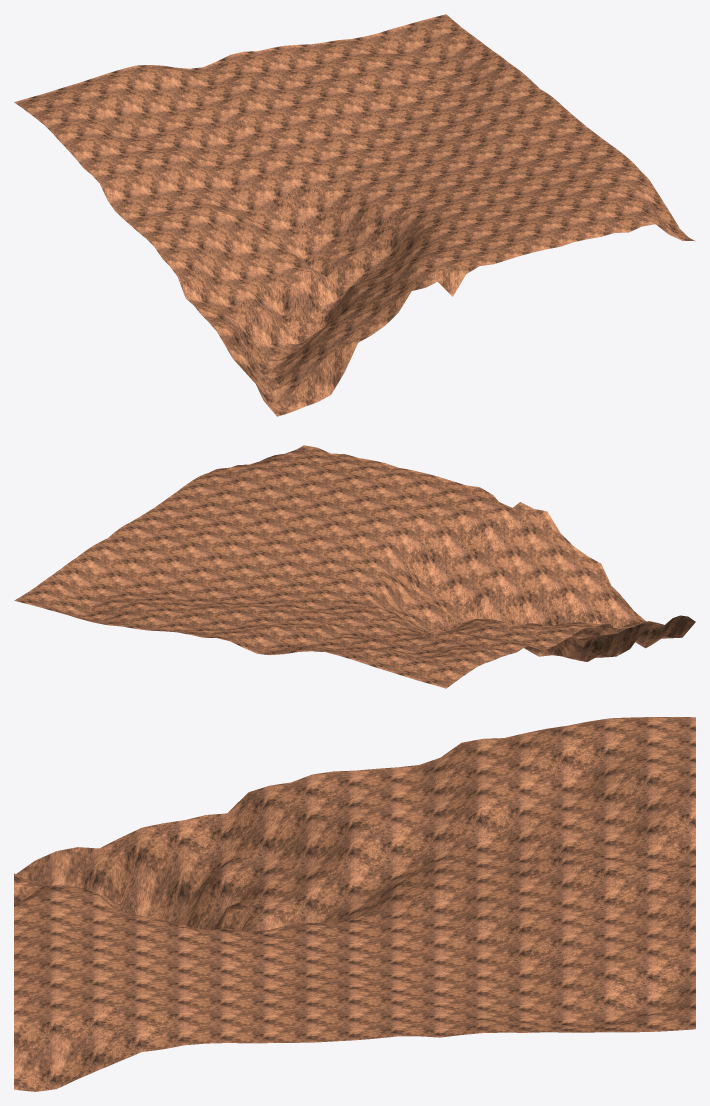
The model's file is terrain_01_19.dae.
3 views of the same model, one above another, from view 1: azimuth 30°, elevation 25°; view 2: azimuth 150°, elevation 25°; view 3: azimuth 270°, elevation 25° (orthographic). The views are drawn at different scales.
Visible parts, largest first — view 1: terrain_01_19-node; view 2: terrain_01_19-node; view 3: terrain_01_19-node.
Part boxes in pixels (left/top/right/bottom): terrain_01_19-node: left=14, top=14, right=695, bottom=416; terrain_01_19-node: left=14, top=445, right=695, bottom=688; terrain_01_19-node: left=14, top=717, right=695, bottom=1091.
Bounding box in the file's own units: 128 × 128 × 40.18.
Materials: 1 (1 with a texture image).
